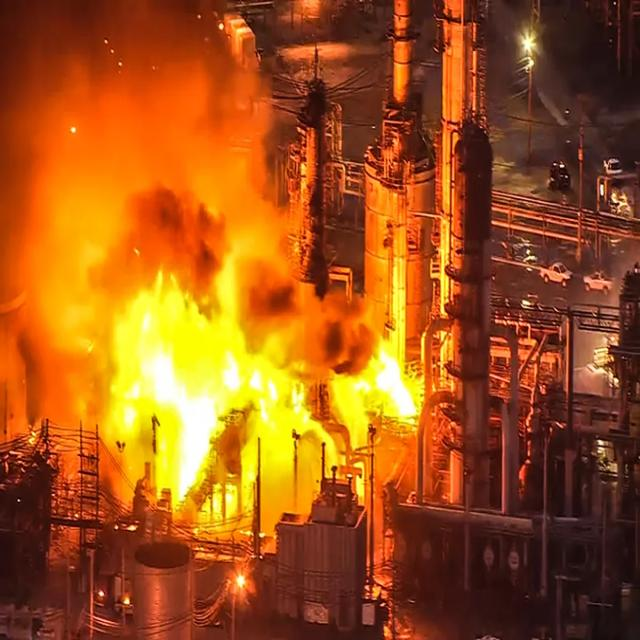fire: (83, 218, 415, 514)
